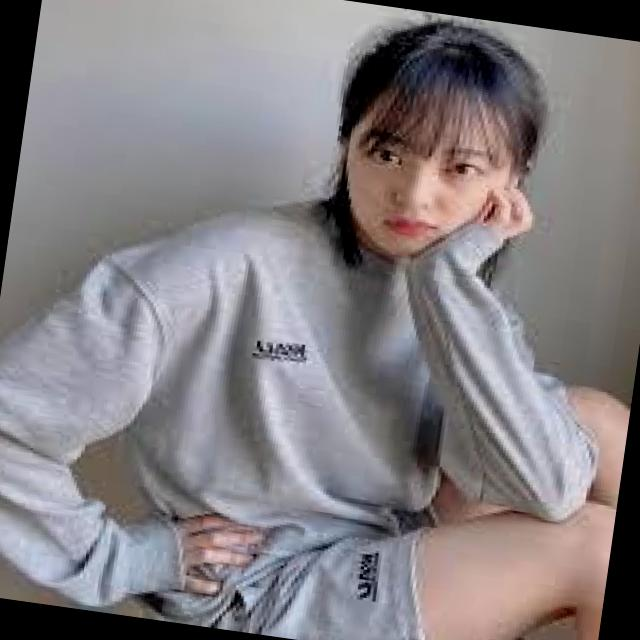sweater: (0, 168, 624, 582)
